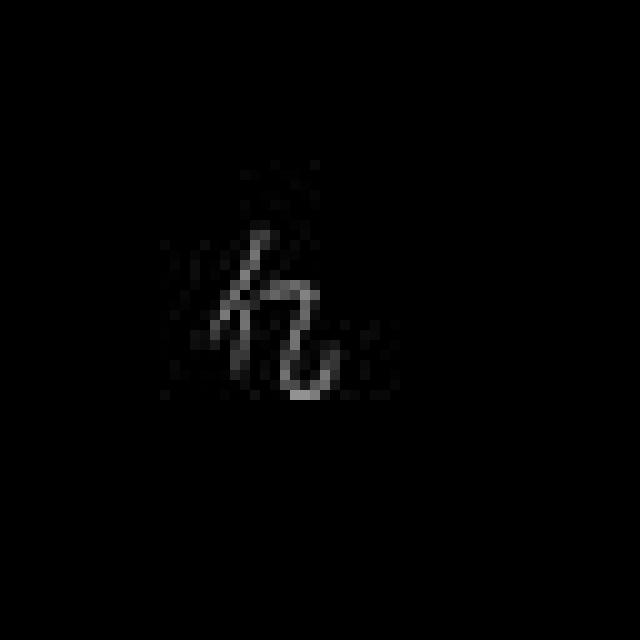100000 -a hundred thousand-: (200, 223, 349, 417)
